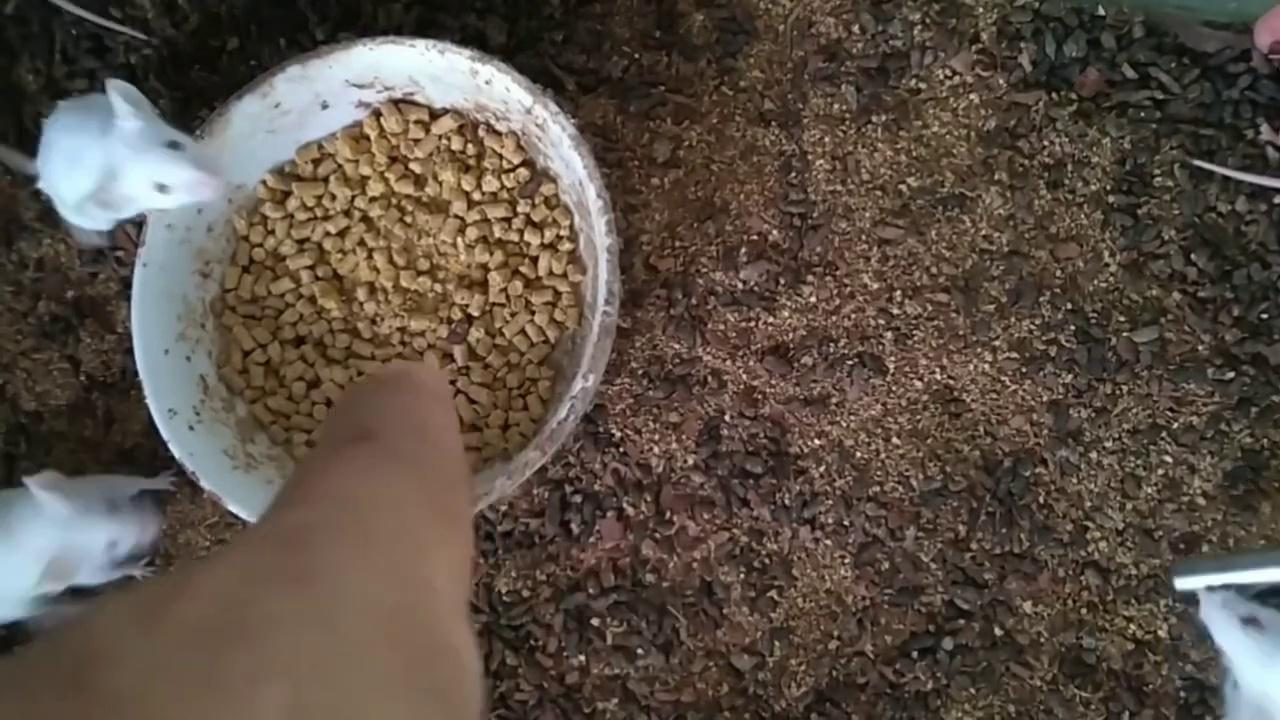rat: (0, 79, 232, 230), (0, 468, 179, 625)
